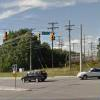Tree: (6, 24, 66, 62)
